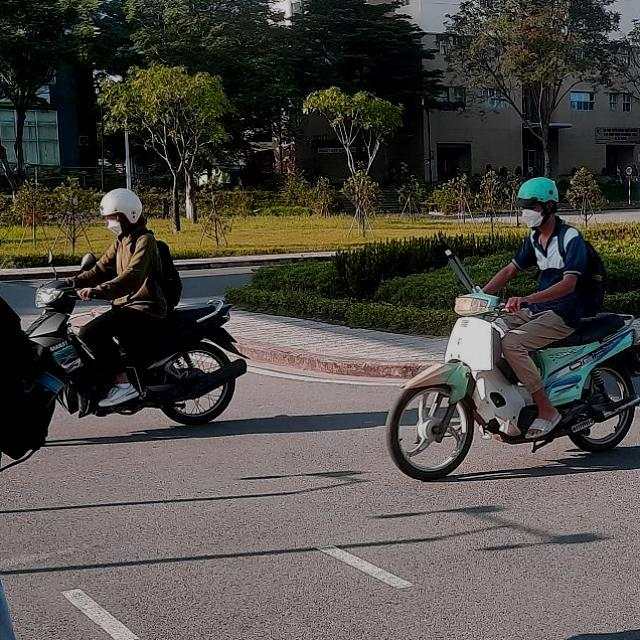Helmet: (511, 174, 564, 230), (102, 188, 148, 233)
